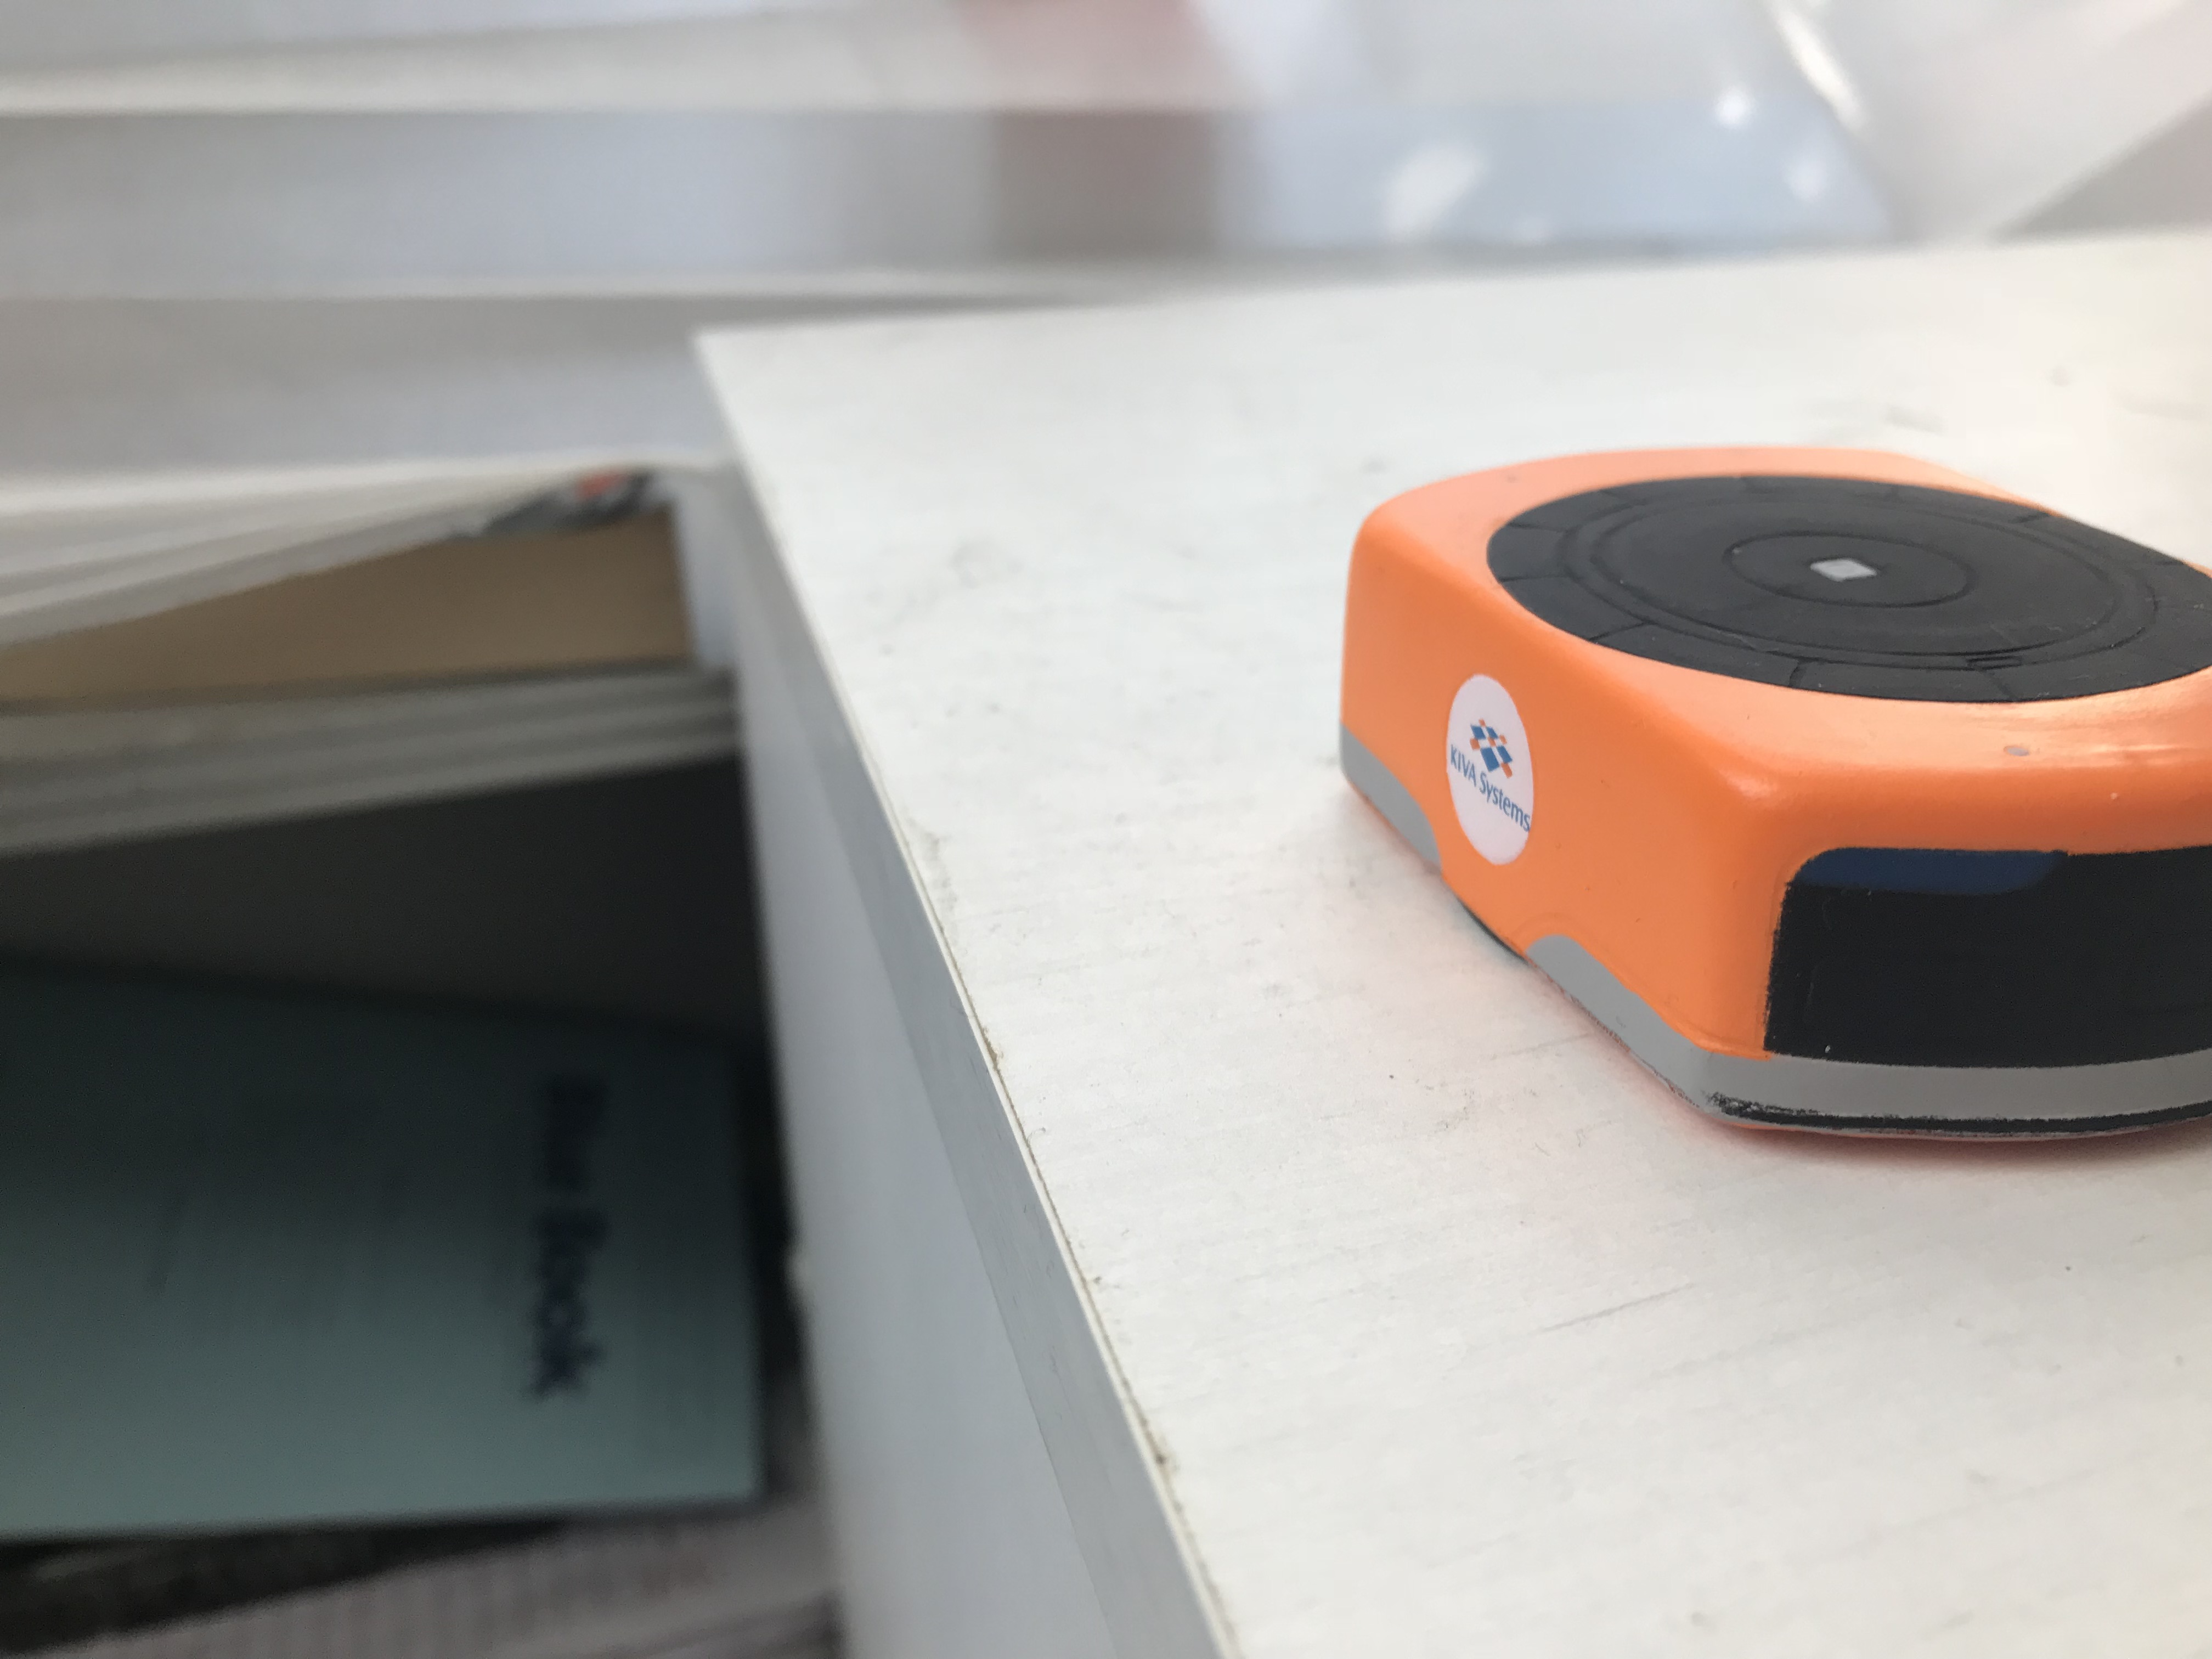amazon_bot: (1292, 408, 2212, 1164)
